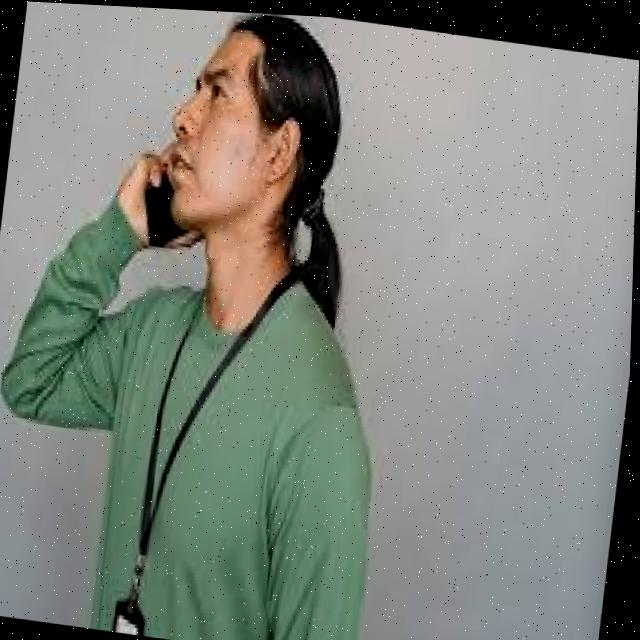id_card: (114, 268, 272, 640)
